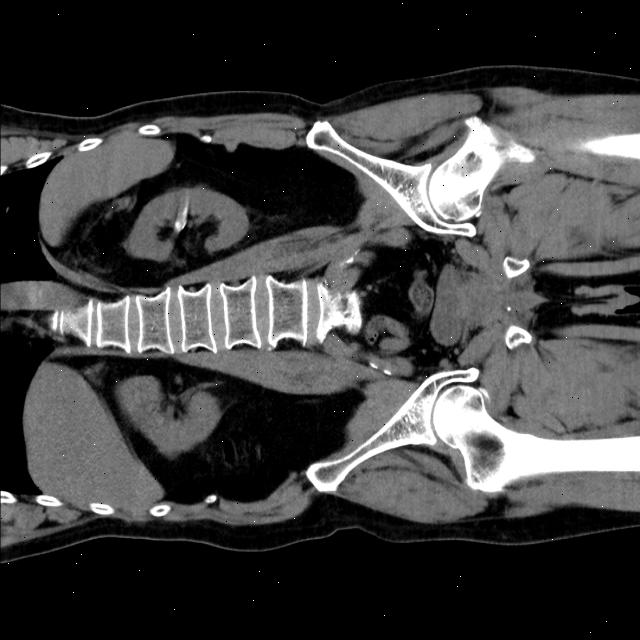kidneystone: (172, 188, 190, 237)
